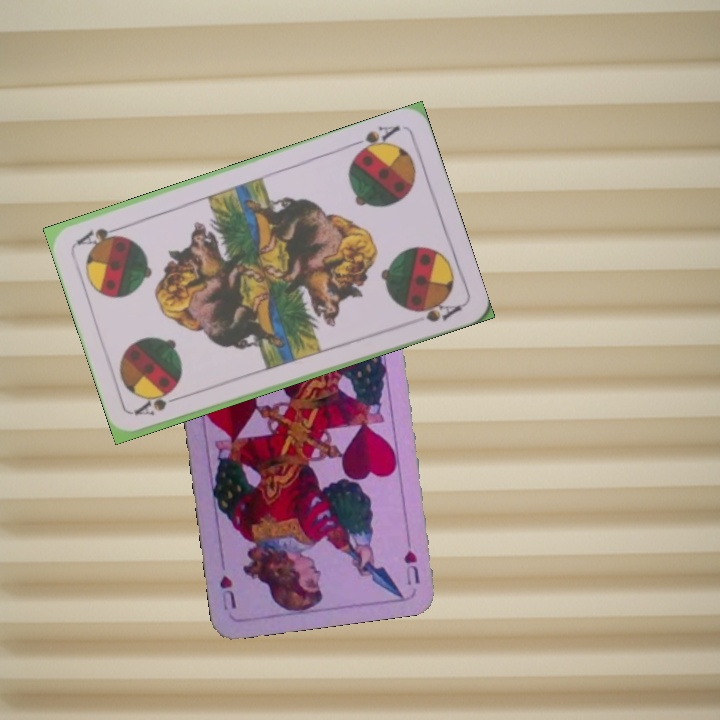HU: (399, 546, 422, 588)
SA: (347, 121, 403, 159), (130, 389, 188, 419)
